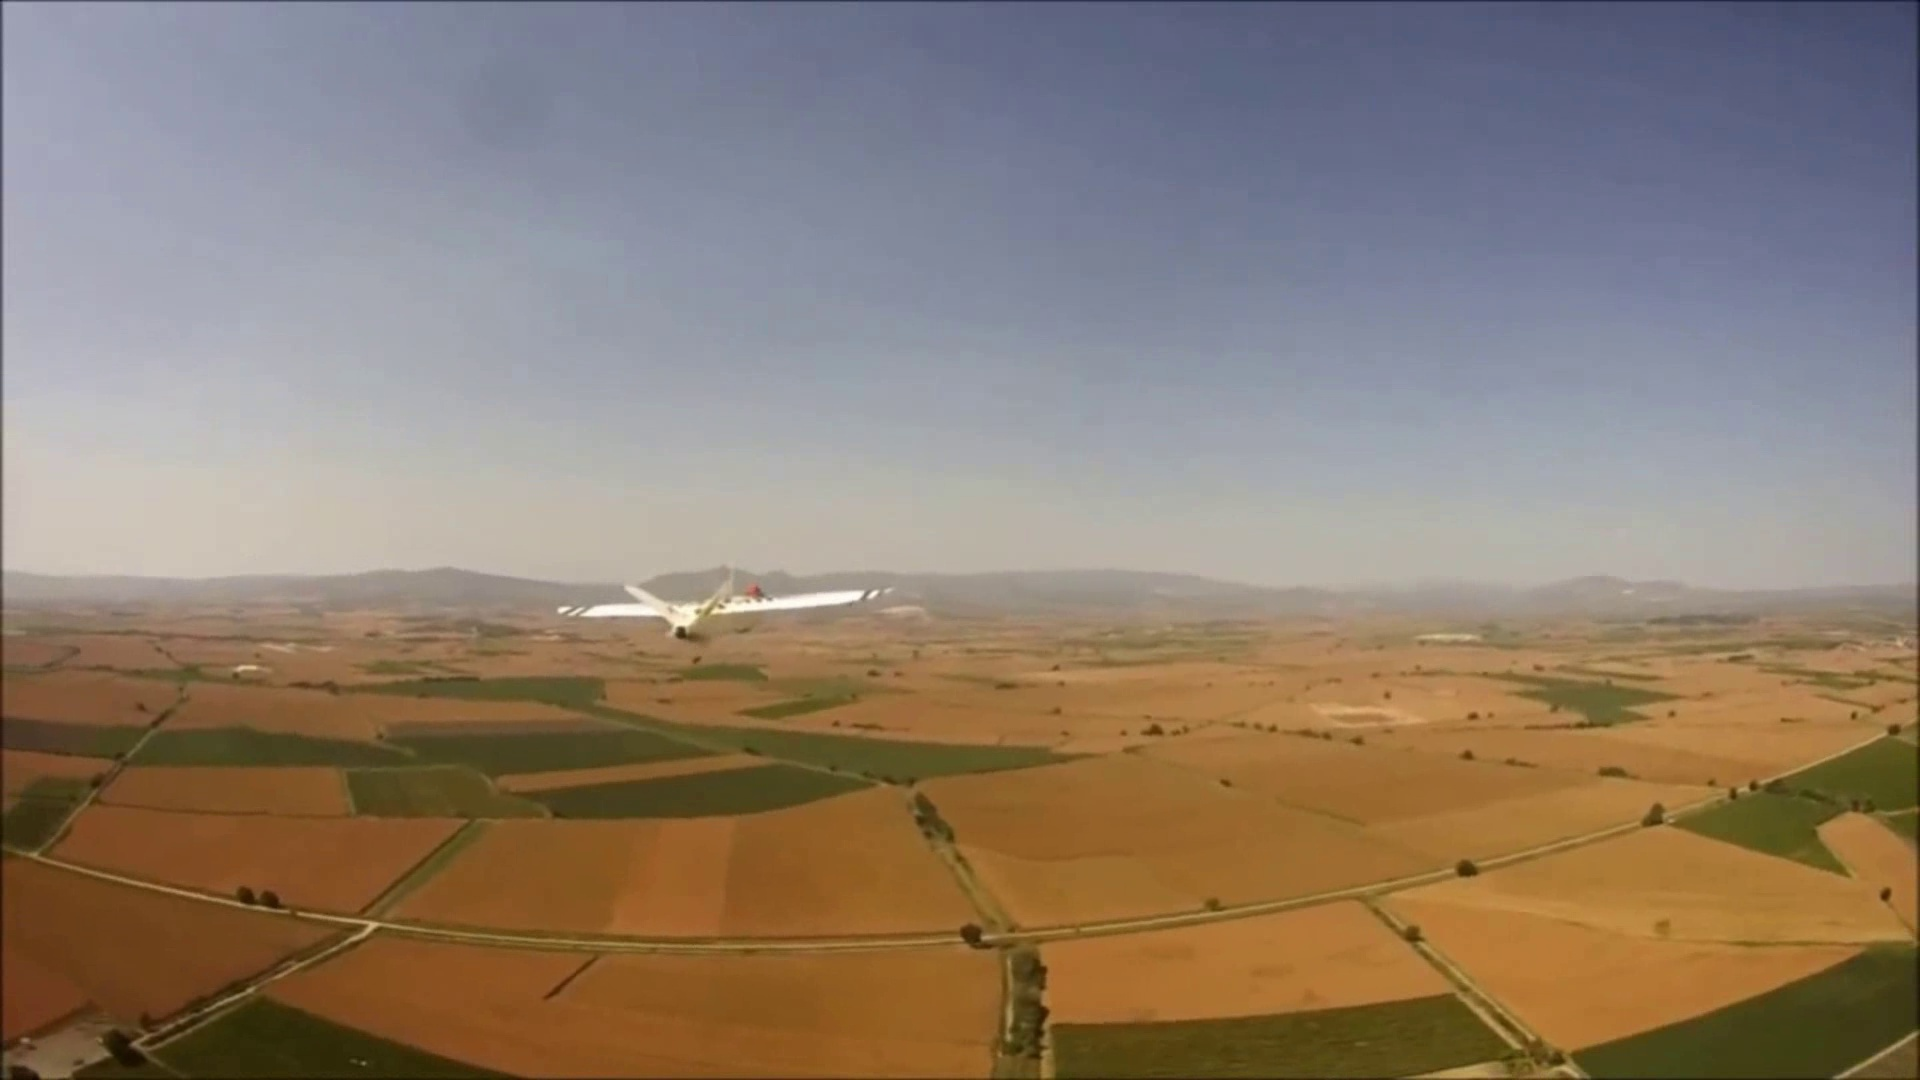airplane: (553, 562, 894, 644)
